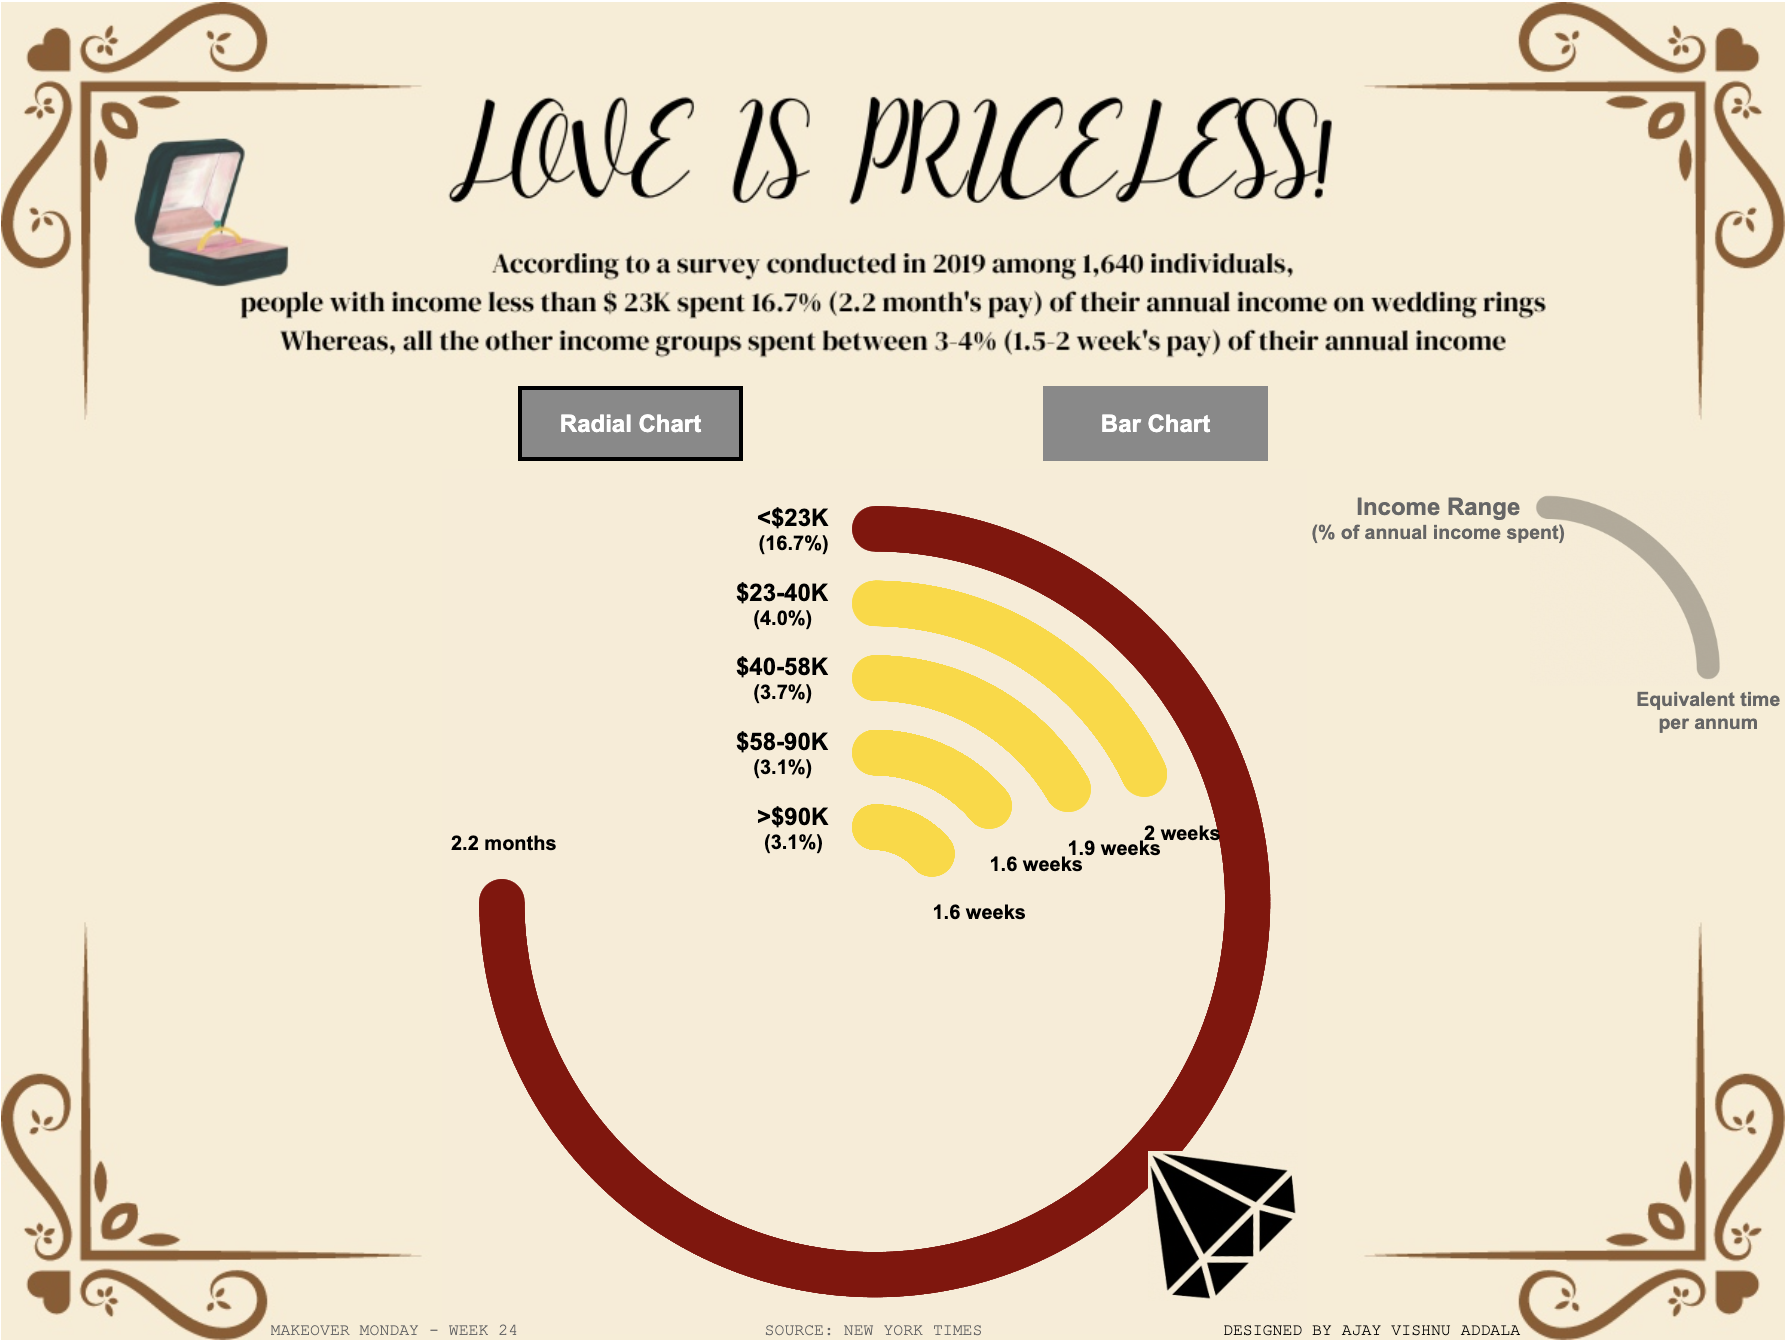

The page's visual inventory and layout, read from the dashboard file:
{"tool":"tableau","page":{"name":"Radial Chart Dash","canvas":[1200,900],"ordinal":1},"visuals":[{"type":"image","param":"Image/LOVE IS PRICELESS!.png","box":[4,4,1192,892]},{"type":"dashboard-object","box":[350,260,150,50]},{"type":"dashboard-object","box":[700,260,150,50]},{"type":"worksheet","title":"Radial Bar","mark":"Line","box":[295,311,585,585]},{"type":"image","param":"Image/Screenshot 2024-06-12 at 18.02.24.png","box":[770,770,100,100]}]}

Visuals, with their boxes in screenshot pixels (x1, y1, x2, y2), scaled from the page's 1200x900 canvas onto the 1788x1344 screenshot:
image: {"x1": 6, "y1": 6, "x2": 1782, "y2": 1338}
dashboard-object: {"x1": 522, "y1": 388, "x2": 745, "y2": 463}
dashboard-object: {"x1": 1043, "y1": 388, "x2": 1266, "y2": 463}
"Radial Bar" worksheet (Line marks): {"x1": 440, "y1": 464, "x2": 1311, "y2": 1338}
image: {"x1": 1147, "y1": 1150, "x2": 1296, "y2": 1299}
